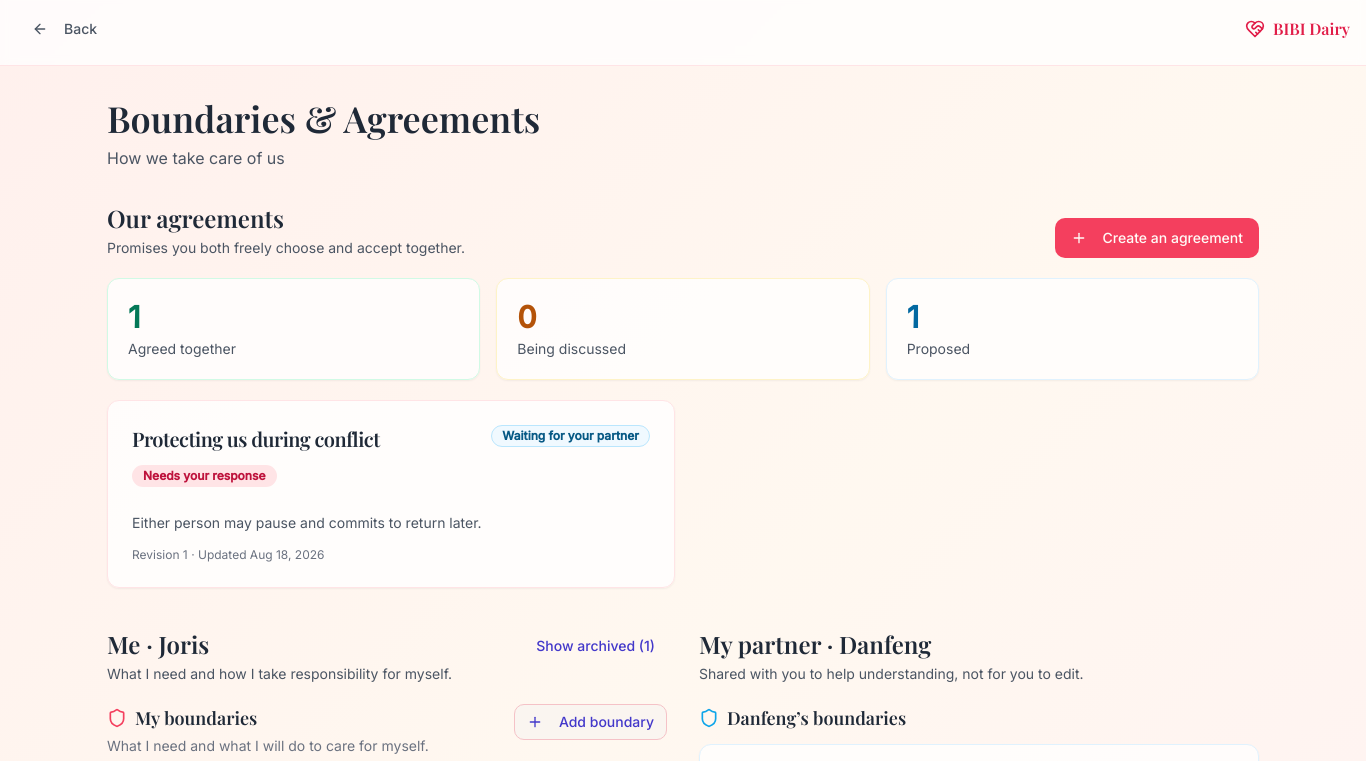
Test: RelationshipCareOverviewPage › restores archived growth goals from the owner-only drawer
The width and height of the screenshot is (1366, 761).
Later steps or results of the test are not shown.
Click the button "Show archived (1)" at x=596, y=646, box x1=524 y1=628 x2=667 y2=664
(page scrolled)
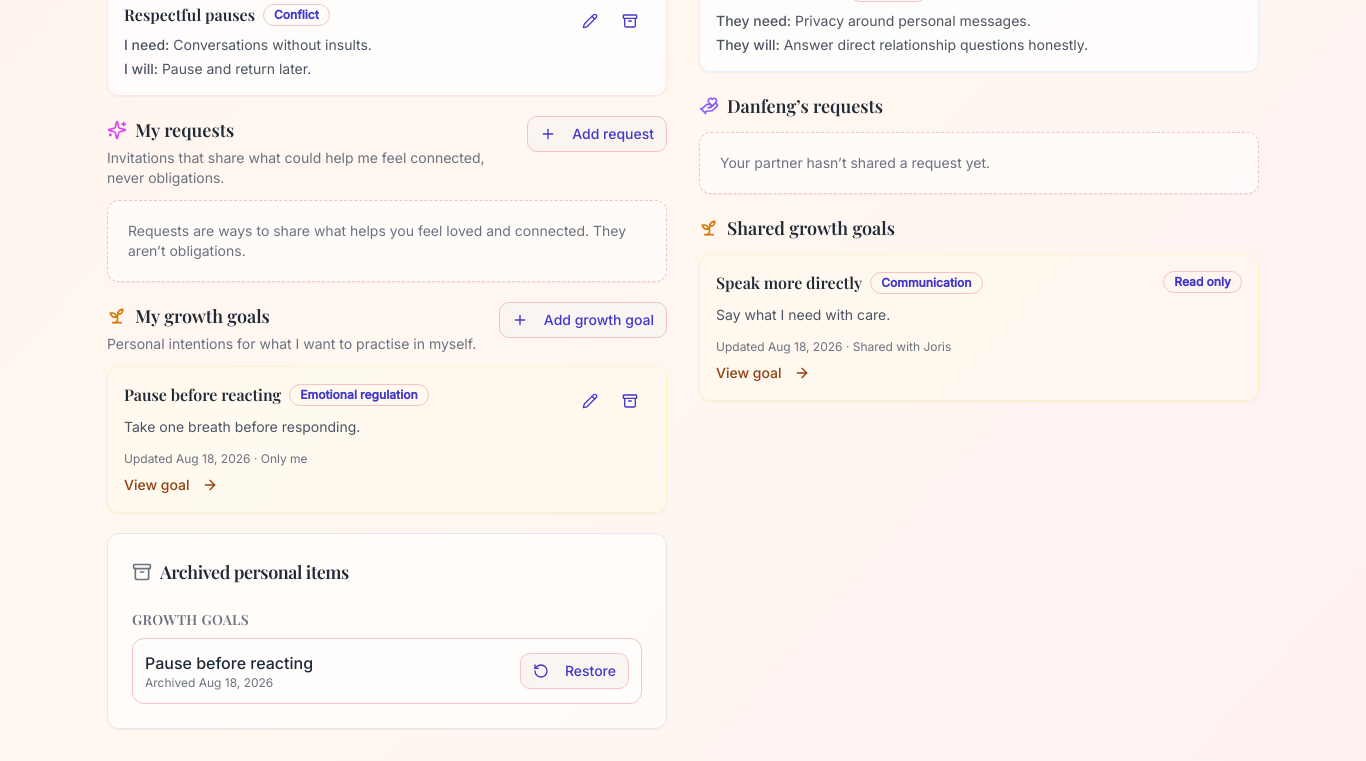
Result: the heading "Growth goals" is shown at x1=132 y1=610 x2=249 y2=629
